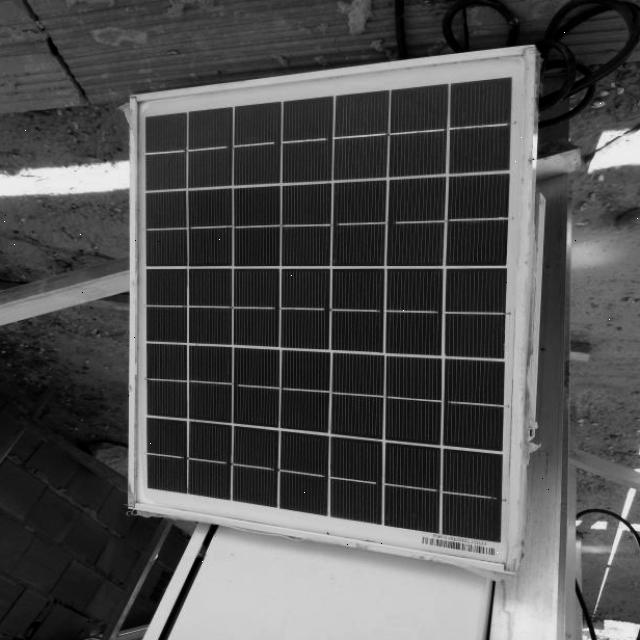Normal Solar Panel: (133, 47, 529, 570)
